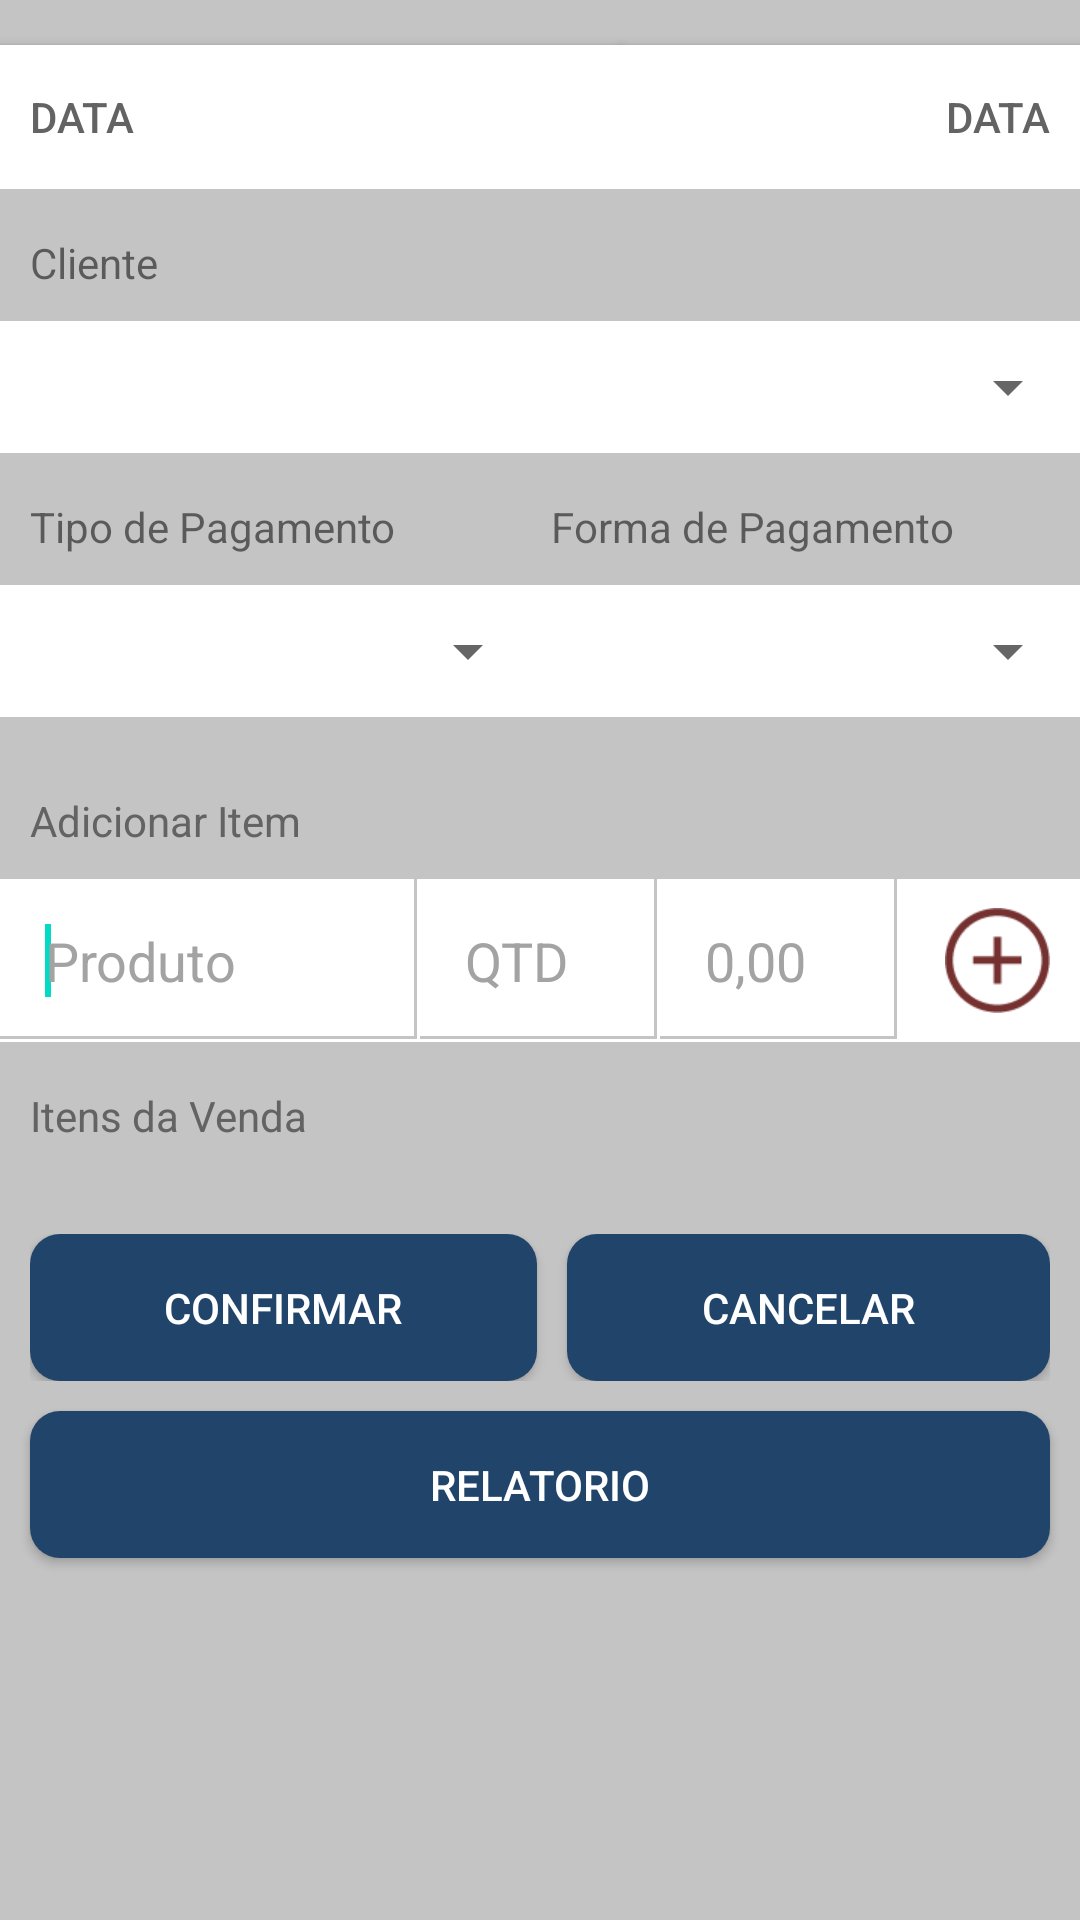

Named icons in this screenshot (1080px x 1920px) and their bounding boxes, bbox=(x1, y1, x2, y2):
add: bbox=(945, 908, 1050, 1013)
